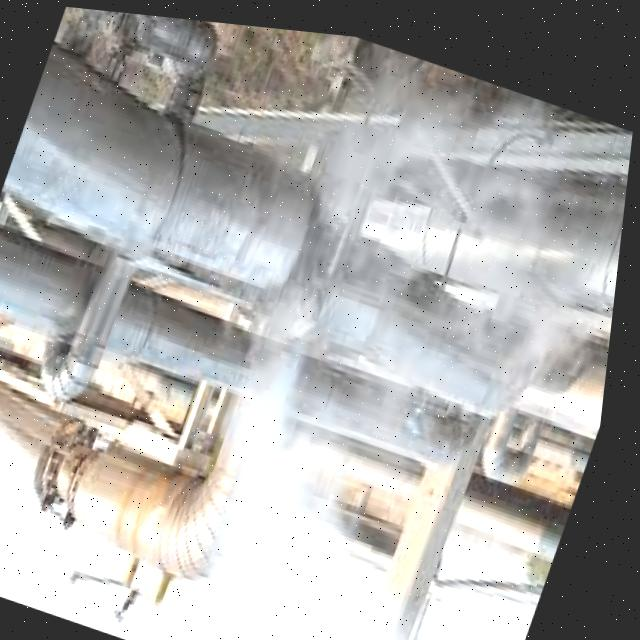corrosion: (138, 103, 511, 521)
